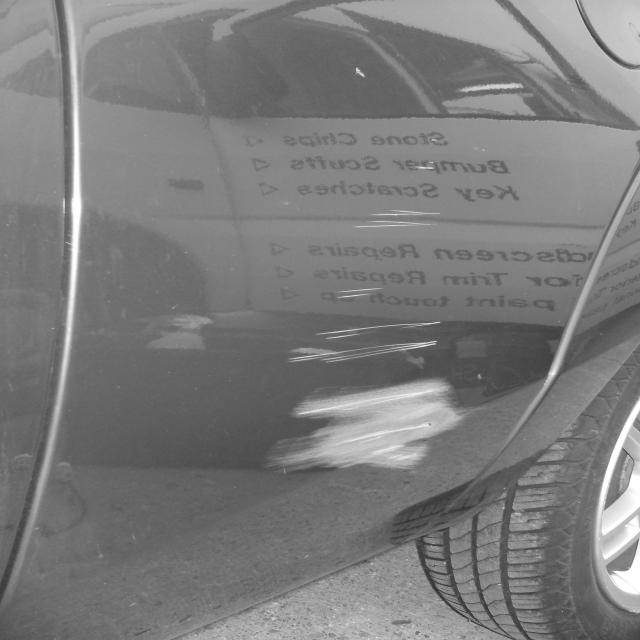scratch: (262, 371, 482, 473), (286, 319, 444, 365), (352, 210, 443, 229), (328, 286, 385, 299), (414, 161, 435, 170)
